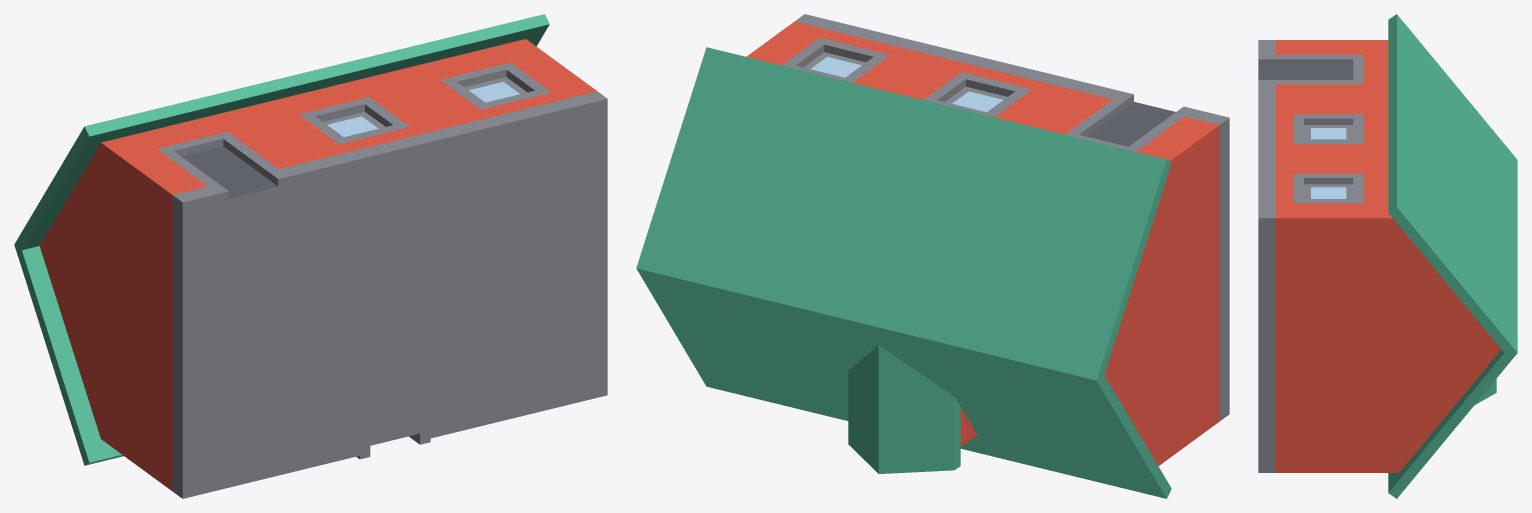
File: house_type07.obj
3 views of the same model, side by side, from view 1: azimuth 30°, elevation 25°; view 2: azimuth 150°, elevation 25°; view 3: azimuth 270°, elevation 25° (orthographic). The views are drawn at different scales.
Parts seen in each view (by area): view 1: house_type07; view 2: house_type07; view 3: house_type07.
Boxes of the visible parts, left/top/right/bottom form: house_type07: left=14, top=14, right=607, bottom=498; house_type07: left=636, top=14, right=1229, bottom=498; house_type07: left=1258, top=14, right=1517, bottom=498.
Size of the model in its own units: 1.3 by 0.916 by 0.7375.
